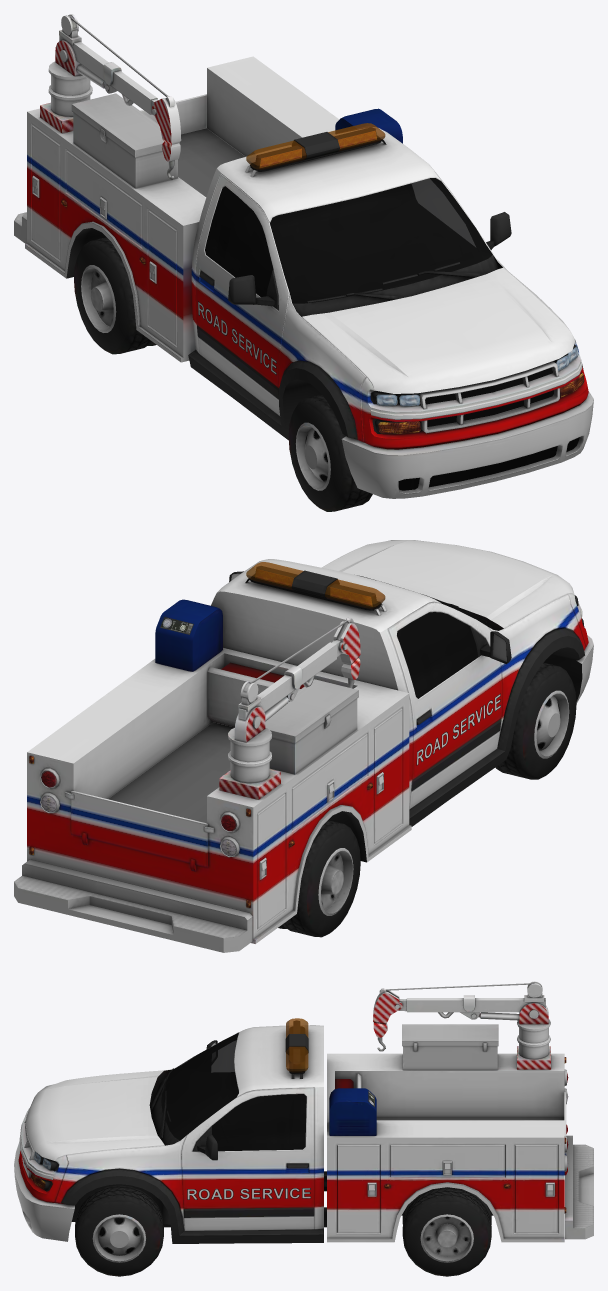
The model's file is veh-rdservtruck.glb.
3 views of the same model, one above another, from view 1: azimuth 30°, elevation 25°; view 2: azimuth 150°, elevation 25°; view 3: azimuth 270°, elevation 25° (orthographic). The views are drawn at different scales.
Visible parts, largest first — view 1: rdservtruck_cervicetruck_tex_0, rdservtruck_glass_tex_0 (×2), rdservtruck_optics_tex_0, rdservtruck_decals_tex_0; view 2: rdservtruck_cervicetruck_tex_0, rdservtruck_glass_tex_0 (×2), rdservtruck_optics_tex_0, rdservtruck_decals_tex_0; view 3: rdservtruck_cervicetruck_tex_0, rdservtruck_glass_tex_0 (×2), rdservtruck_decals_tex_0, rdservtruck_optics_tex_0.
Part boxes in pixels (x1,y1,x2,y2): rdservtruck_cervicetruck_tex_0: [14, 14, 593, 511]; rdservtruck_glass_tex_0 (×2): [205, 123, 492, 303]; rdservtruck_optics_tex_0: [61, 130, 584, 433]; rdservtruck_decals_tex_0: [198, 301, 276, 375]; rdservtruck_cervicetruck_tex_0: [14, 540, 593, 952]; rdservtruck_glass_tex_0 (×2): [246, 562, 491, 698]; rdservtruck_optics_tex_0: [29, 568, 377, 907]; rdservtruck_decals_tex_0: [416, 693, 500, 765]; rdservtruck_cervicetruck_tex_0: [14, 981, 593, 1276]; rdservtruck_glass_tex_0 (×2): [161, 1018, 308, 1151]; rdservtruck_decals_tex_0: [187, 1188, 310, 1199]; rdservtruck_optics_tex_0: [31, 1057, 568, 1213].
Size of the model in its own units: 2.23 by 2.19 by 5.27.
Materials: 5 (5 with a texture image).
